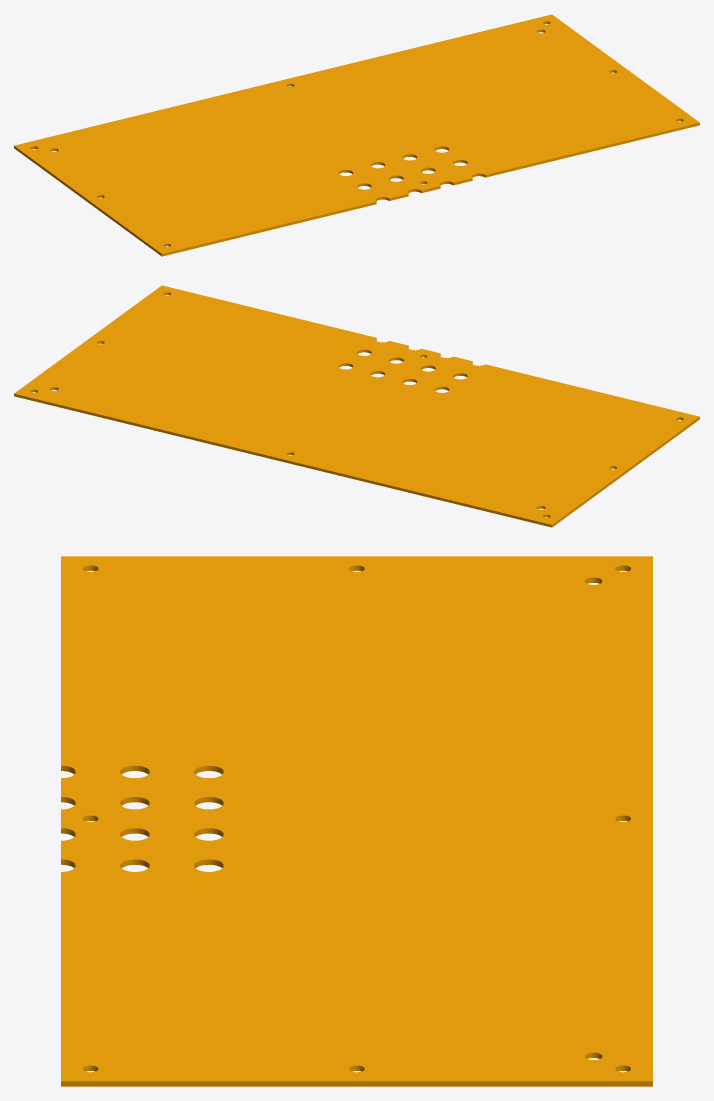
The model's file is shell_rear.glb.
The picture shows the model from 3 angles, top to bottom: view 1: azimuth 30°, elevation 25°; view 2: azimuth 150°, elevation 25°; view 3: azimuth 270°, elevation 25°; orthographic projection. The views are drawn at different scales.
Parts seen in each view (by area): view 1: rear_panel-diff-diff-diff; view 2: rear_panel-diff-diff-diff; view 3: rear_panel-diff-diff-diff.
Part boxes in pixels (x1,y1,x2,y2): rear_panel-diff-diff-diff: [14, 14, 699, 256]; rear_panel-diff-diff-diff: [14, 285, 699, 527]; rear_panel-diff-diff-diff: [61, 556, 652, 1086].
Bounding box in the file's own units: 420 × 2 × 200.
